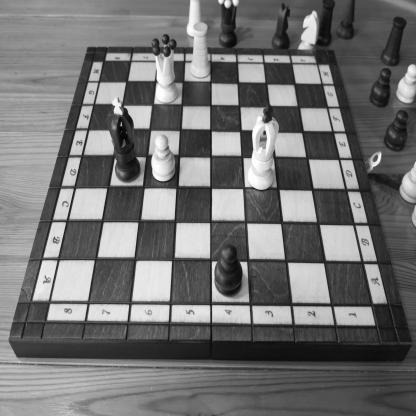black-bishop: (336, 0, 356, 39)
black-king: (105, 94, 141, 182)
black-knight: (271, 3, 291, 49)
black-pawn: (214, 243, 244, 297), (383, 110, 409, 154), (369, 68, 391, 110)
black-queen: (217, 0, 238, 49)
black-rook: (379, 17, 406, 68), (316, 0, 336, 46)
white-king: (247, 102, 279, 192)
white-knight: (298, 11, 320, 51)
white-pawn: (151, 133, 176, 183), (395, 63, 415, 106), (398, 160, 416, 206)
white-queen: (150, 33, 178, 105)
white-rook: (190, 22, 212, 80), (185, 0, 205, 40)
